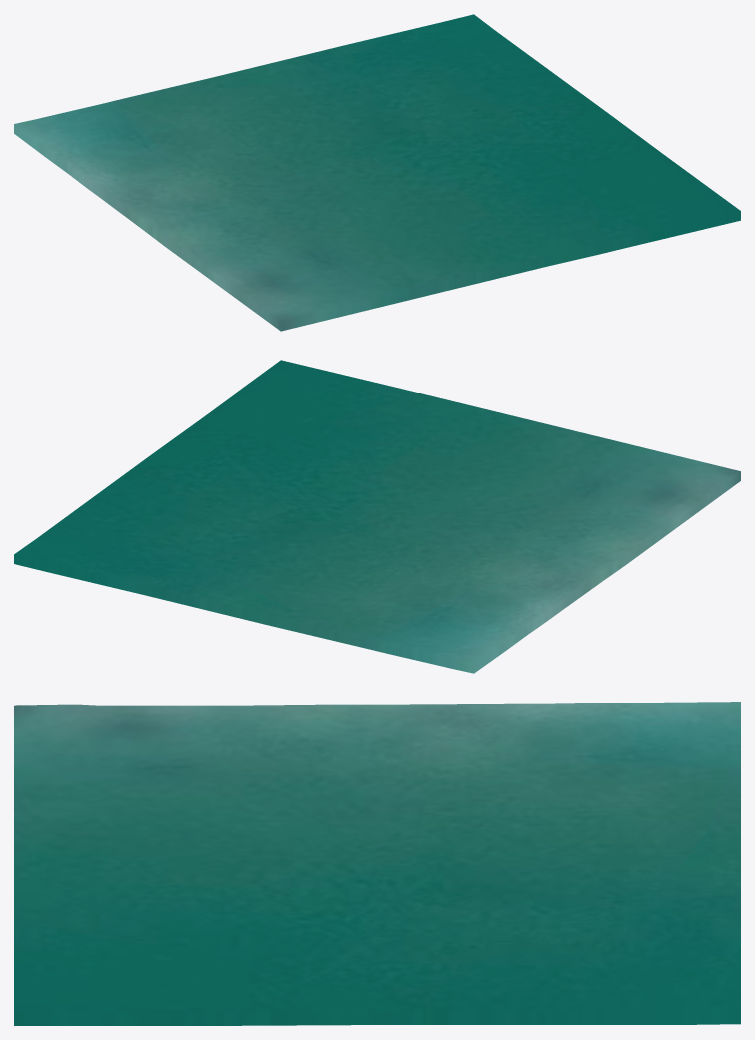
Rendered from z20-167555-405169-h0-yup-uvflip-v3-world.glb.
3 views of the same model, one above another, from view 1: azimuth 30°, elevation 25°; view 2: azimuth 150°, elevation 25°; view 3: azimuth 270°, elevation 25° (orthographic). The views are drawn at different scales.
Bounding box in the file's own units: 30.16 × 0.84 × 30.32.
Materials: 1 (1 with a texture image).
